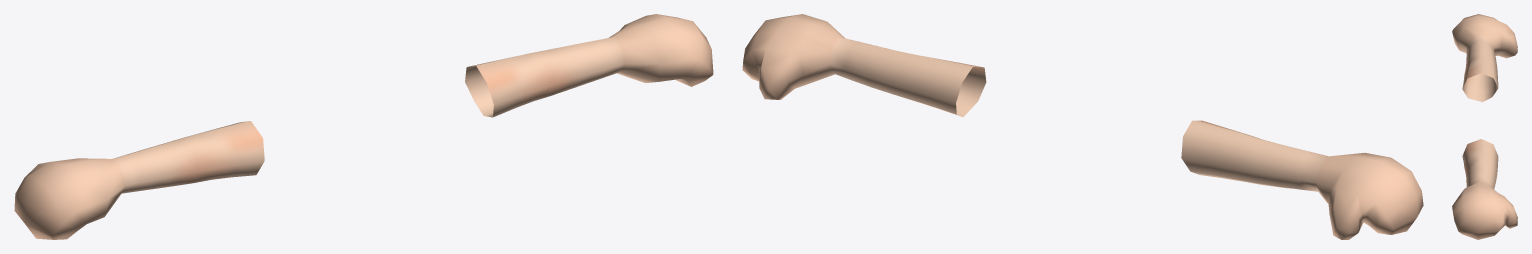
File: Body_ArmA_1.fbx
3 renders of one model, left to right at view 1: azimuth 30°, elevation 25°; view 2: azimuth 150°, elevation 25°; view 3: azimuth 270°, elevation 25°, orthographic. The views are drawn at different scales.
Visible parts, largest first — view 1: Body_ArmA_1; view 2: Body_ArmA_1; view 3: Body_ArmA_1.
Boxes of the visible parts, x1,y1,x2,y2 form: Body_ArmA_1: [14, 14, 713, 239]; Body_ArmA_1: [742, 14, 1423, 239]; Body_ArmA_1: [1452, 14, 1517, 239].
Bounding box in the file's own units: 131 × 12.06 × 18.22.
